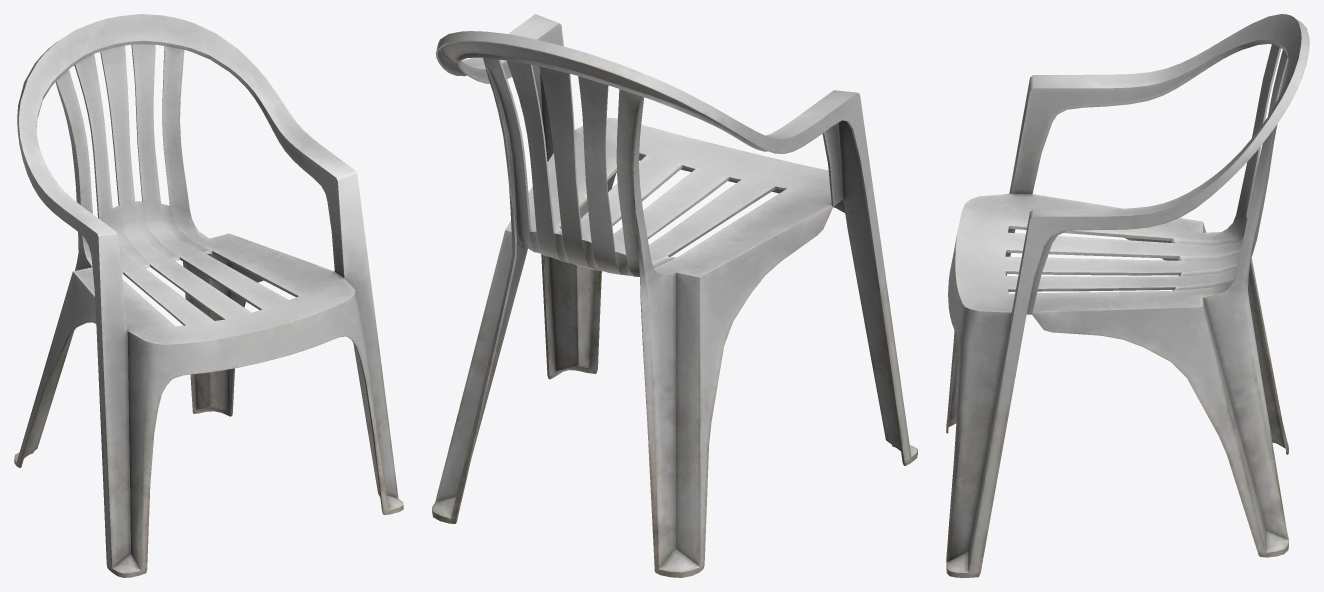
Rendered from plastic_monobloc_chair_01.glb.
3 views of the same model, side by side, from view 1: azimuth 30°, elevation 25°; view 2: azimuth 150°, elevation 25°; view 3: azimuth 270°, elevation 25° (orthographic). The views are drawn at different scales.
Visible parts, largest first — view 1: plastic_monobloc_chair_01; view 2: plastic_monobloc_chair_01; view 3: plastic_monobloc_chair_01.
Part boxes in pixels (left/top/right/bottom): plastic_monobloc_chair_01: left=14, top=14, right=403, bottom=577; plastic_monobloc_chair_01: left=432, top=14, right=917, bottom=577; plastic_monobloc_chair_01: left=946, top=14, right=1309, bottom=577.
Bounding box in the file's own units: 0.6418 × 0.8798 × 0.6276.
Materials: 1 (1 with a texture image).
